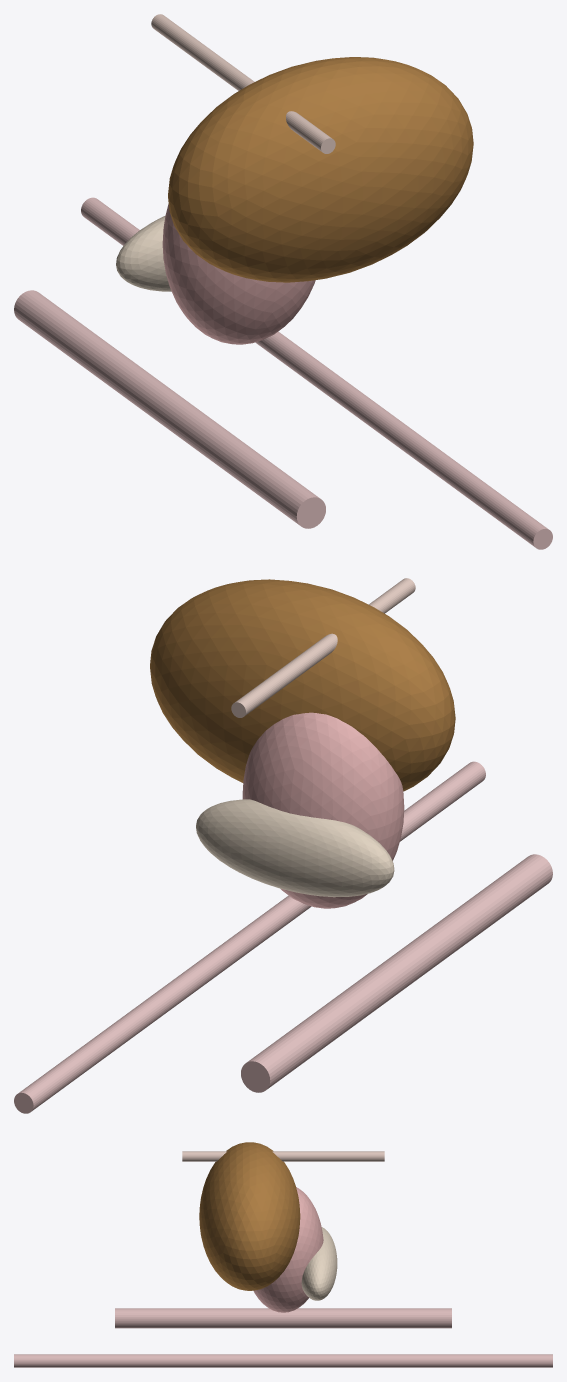
File: digestive_system.glb
The picture shows the model from 3 angles, top to bottom: view 1: azimuth 30°, elevation 25°; view 2: azimuth 150°, elevation 25°; view 3: azimuth 270°, elevation 25°; orthographic projection. The views are drawn at different scales.
Visible parts, largest first — view 1: world; view 2: world; view 3: world.
Part boxes in pixels (x1=…): world: x1=14, y1=14, x2=552, y2=549; world: x1=14, y1=578, x2=552, y2=1113; world: x1=14, y1=1142, x2=552, y2=1367.
Bounding box in the file's own units: 6 × 6.8 × 16.
